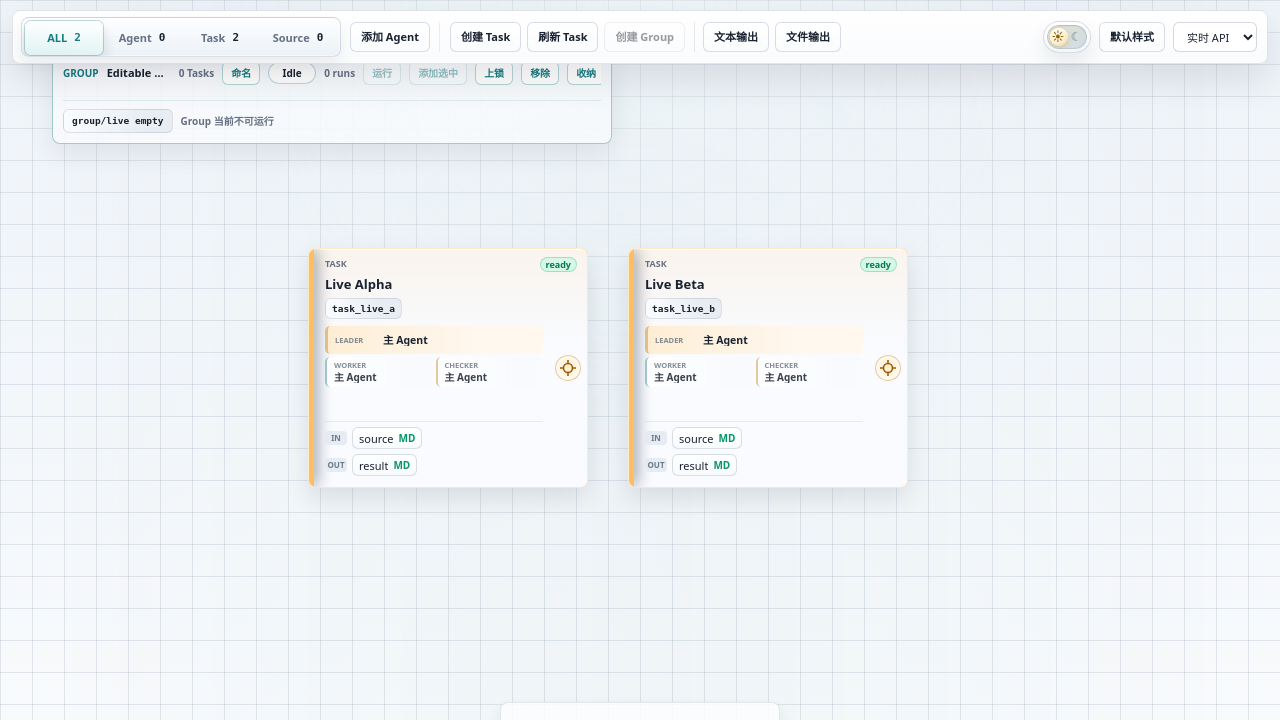
Test: App › live Task Groups › adds selected Tasks to an empty Live Task Group through PATCH
Expected: the button "Live Alpha" is shown, [308,248,588,488]
Expected: the button "Live Beta" is shown, [628,248,908,488]
Press the mouse on the element with class "execution-map-container" at {"x": 640, "y": 360}, box [0,0,1279,719]
Wait 201 ms
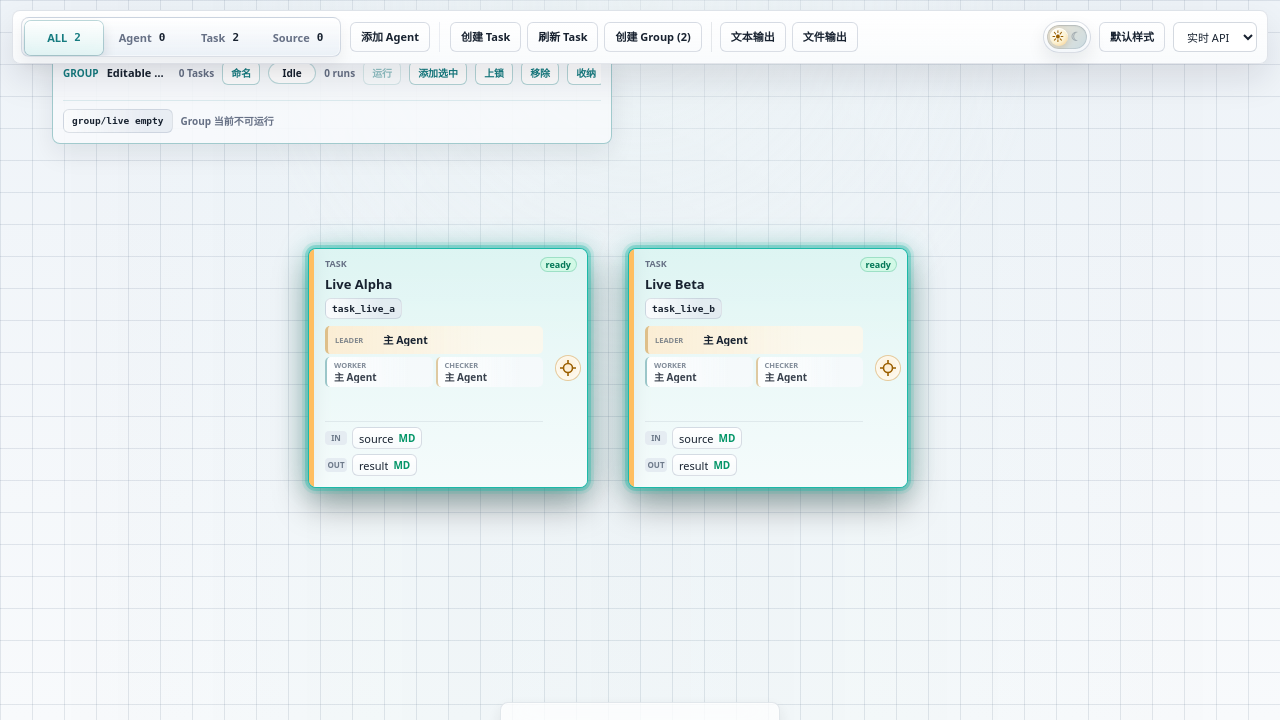
Click the button with aria-label "添加选中 Editable Group".
click(438, 73)  # box [409,61,467,85]
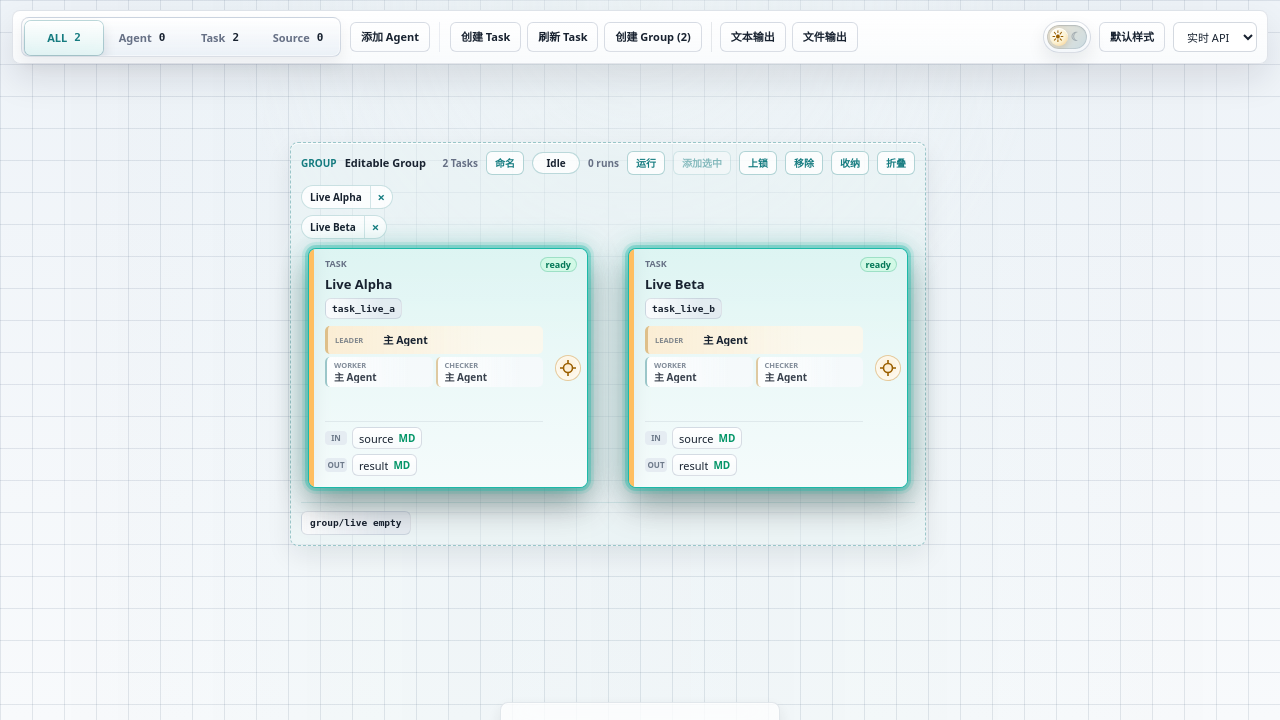
Now the text "2 Tasks" is shown, box [442,155,478,171]
